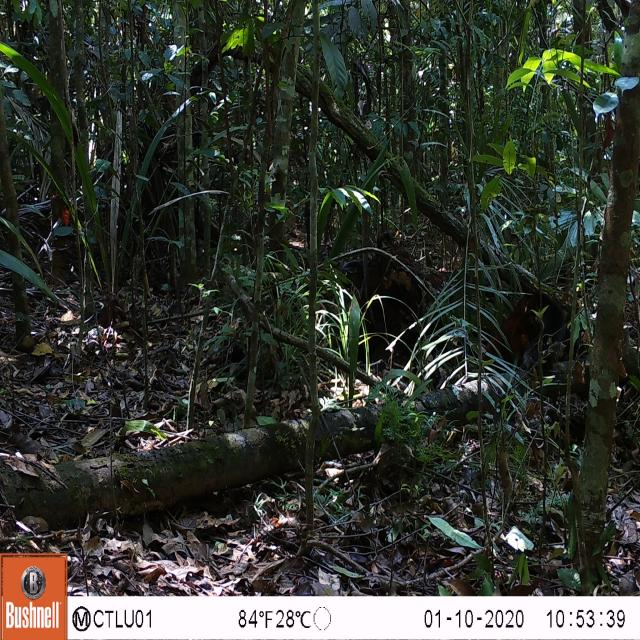South American Coati: (477, 271, 574, 408)
